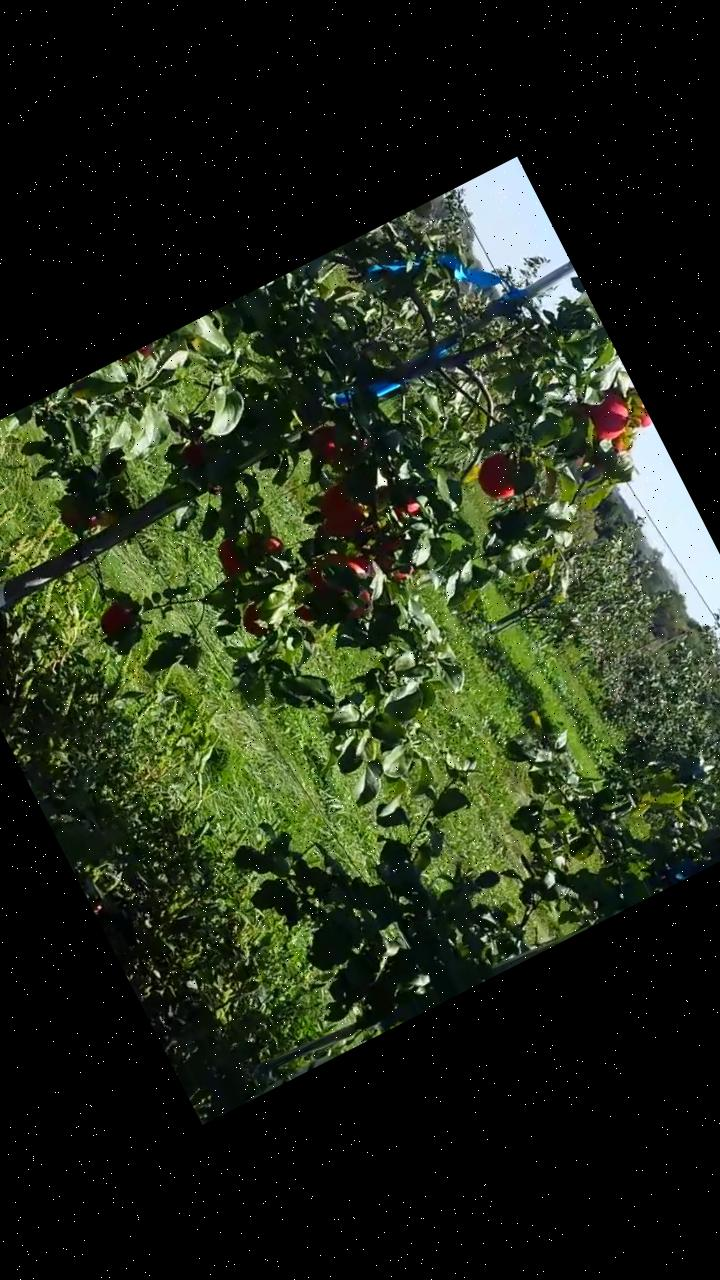Apple: (305, 476, 386, 556), (563, 378, 641, 454), (468, 445, 537, 514), (306, 541, 378, 607), (368, 522, 436, 590), (209, 526, 267, 589), (300, 422, 358, 482), (374, 476, 432, 534), (231, 588, 283, 650), (92, 591, 148, 645), (244, 518, 294, 574), (329, 576, 382, 627), (168, 428, 216, 480), (619, 389, 656, 439), (62, 497, 106, 538), (286, 587, 328, 628), (120, 344, 156, 369), (608, 428, 634, 456)
